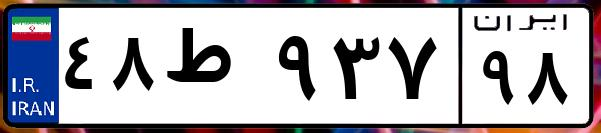3: (330, 28, 385, 110)
4: (57, 26, 110, 100)
7: (385, 28, 445, 110)
8: (525, 38, 570, 115), (110, 28, 158, 98)
9: (270, 28, 330, 110), (475, 38, 525, 113)
ط: (158, 20, 270, 120)
